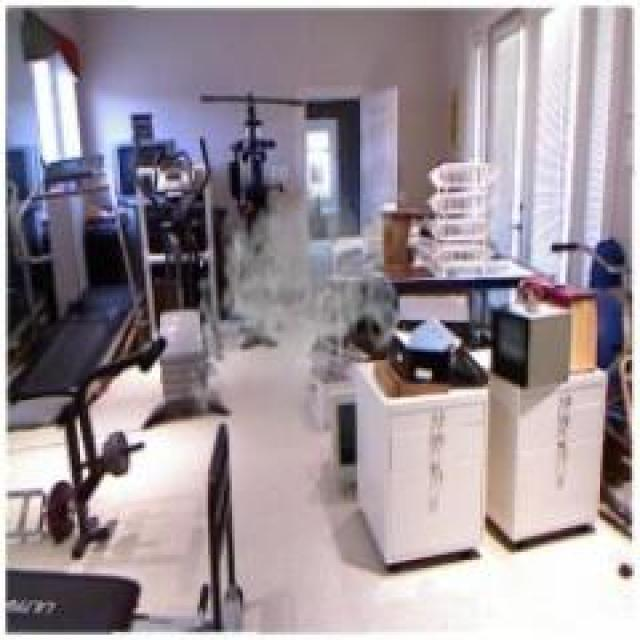Smoke: (202, 172, 409, 530)
